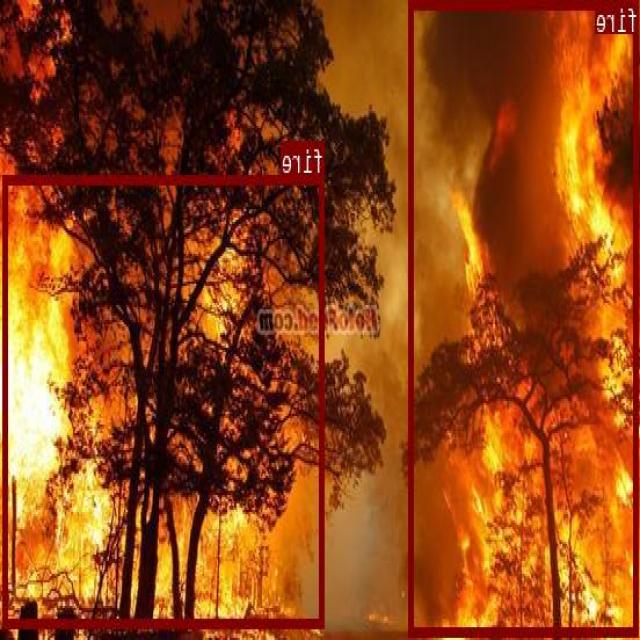fire: (410, 0, 639, 634), (4, 175, 326, 625)
